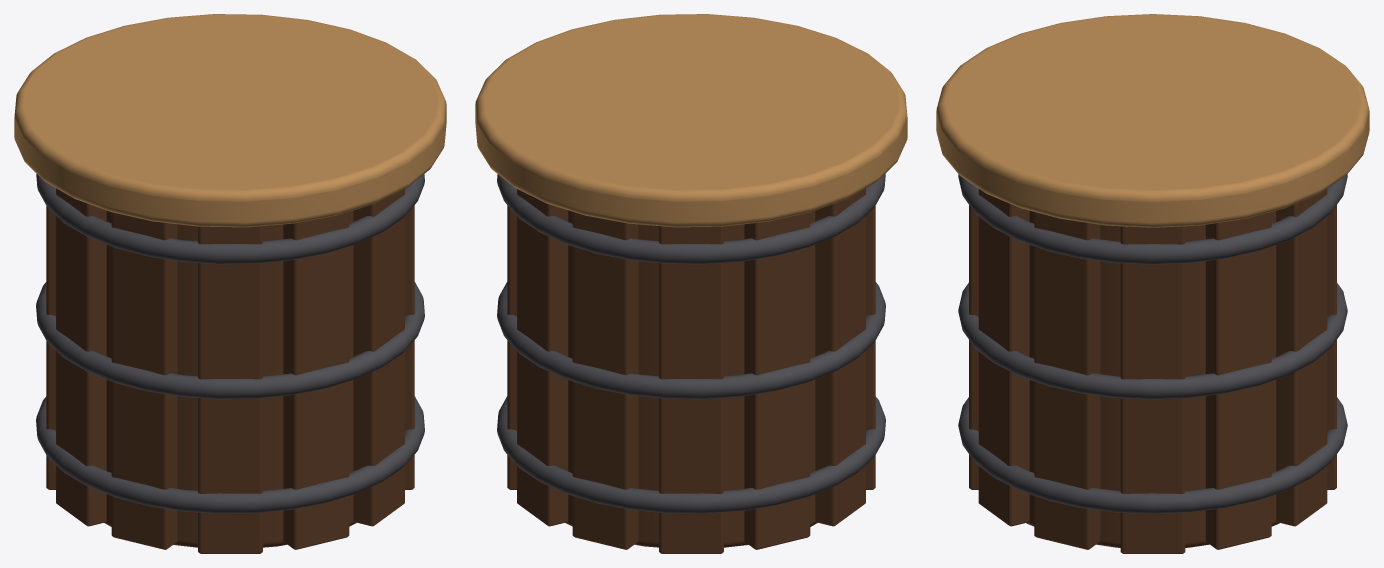
The model's file is cabin-barrel-stool.glb.
3 views of the same model, side by side, from view 1: azimuth 30°, elevation 25°; view 2: azimuth 150°, elevation 25°; view 3: azimuth 270°, elevation 25° (orthographic).
Visible parts, largest first — view 1: seat, stave.4, stave.6, stave.5, core, stave.3, stave.7, hoop.1, hoop.2, hoop.3, stave.2, stave.8; view 2: seat, stave.10, stave.8, stave.9, core, stave.11, stave.7, hoop.1, hoop.2, hoop.3, stave.12, stave.6; view 3: seat, stave.2, stave.12, stave.1, core, stave.3, stave.11, hoop.1, hoop.2, hoop.3, stave.4, stave.10.
Boxes of the visible parts, left/top/right/bottom form: seat: left=14, top=14, right=446, bottom=227; stave.4: left=283, top=212, right=349, bottom=549; stave.6: left=111, top=212, right=177, bottom=549; stave.5: left=198, top=226, right=262, bottom=553; core: left=104, top=210, right=356, bottom=547; stave.3: left=353, top=189, right=404, bottom=526; stave.7: left=56, top=188, right=106, bottom=526; hoop.1: left=36, top=396, right=424, bottom=513; hoop.2: left=36, top=282, right=424, bottom=399; hoop.3: left=36, top=173, right=424, bottom=264; stave.2: left=405, top=205, right=414, bottom=489; stave.8: left=46, top=206, right=55, bottom=489; seat: left=475, top=14, right=907, bottom=227; stave.10: left=572, top=212, right=638, bottom=549; stave.8: left=744, top=212, right=810, bottom=549; stave.9: left=659, top=226, right=723, bottom=553; core: left=565, top=210, right=817, bottom=547; stave.11: left=517, top=189, right=568, bottom=526; stave.7: left=815, top=188, right=865, bottom=526; hoop.1: left=497, top=396, right=885, bottom=513; hoop.2: left=497, top=282, right=885, bottom=399; hoop.3: left=497, top=173, right=885, bottom=264; stave.12: left=507, top=205, right=516, bottom=489; stave.6: left=866, top=206, right=875, bottom=489; seat: left=936, top=14, right=1369, bottom=227; stave.2: left=1034, top=212, right=1100, bottom=549; stave.12: left=1205, top=212, right=1271, bottom=549; stave.1: left=1120, top=226, right=1185, bottom=553; core: left=1026, top=210, right=1279, bottom=547; stave.3: left=978, top=189, right=1029, bottom=526; stave.11: left=1276, top=189, right=1327, bottom=526; hoop.1: left=958, top=397, right=1347, bottom=513; hoop.2: left=958, top=283, right=1347, bottom=399; hoop.3: left=958, top=174, right=1347, bottom=264; stave.4: left=969, top=205, right=978, bottom=489; stave.10: left=1327, top=205, right=1336, bottom=489.
Bounding box in the file's own units: 0.48 × 0.465 × 0.48.
